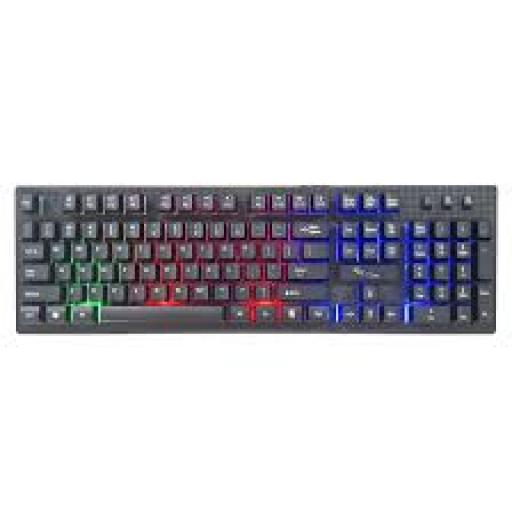KEYBOARD-2: (18, 185, 494, 331)
